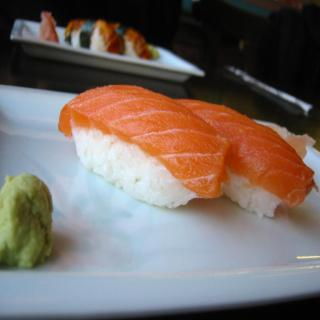Sushi: (55, 82, 234, 214), (176, 97, 320, 218)
